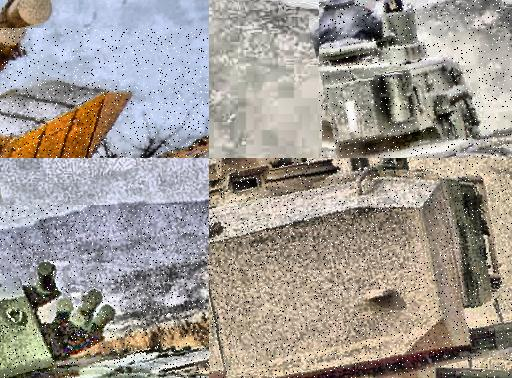tanks: (210, 159, 512, 378), (320, 1, 512, 159), (1, 269, 210, 378), (1, 83, 130, 159)
